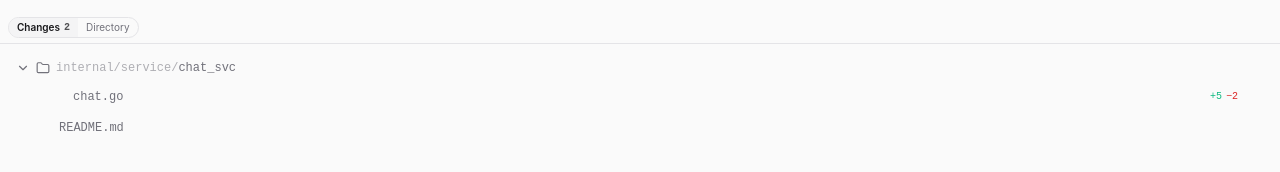
Scenario: FilesPanel directory search › (e) shows a no-hit empty state noting ignored files are excluded by default
Click the tab "Directory" at (108,28), box [78,18,138,37]
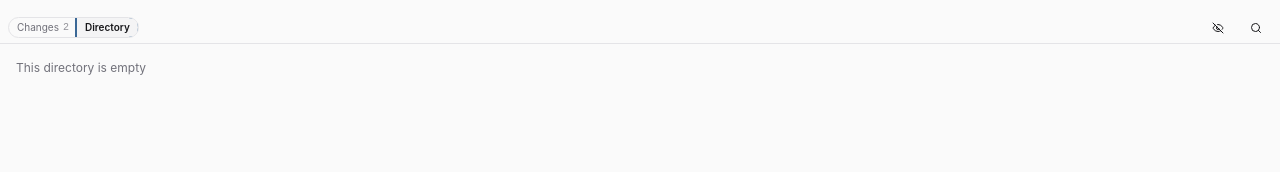
Click the button named "search" at (1256,28), box [1240,16,1272,40]
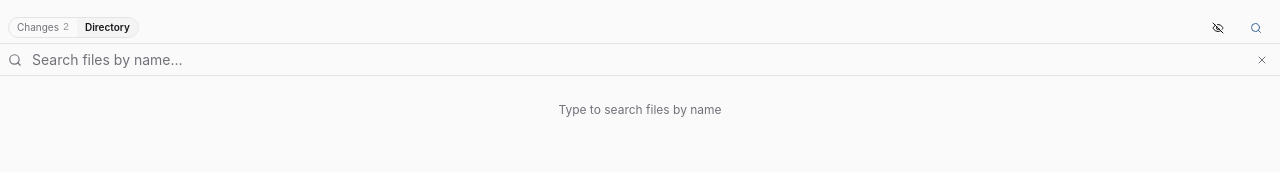
Type "zzz" into the field labelled "Search files by name…" at (637,60), box [28,48,1246,72]
Wait 300 ms
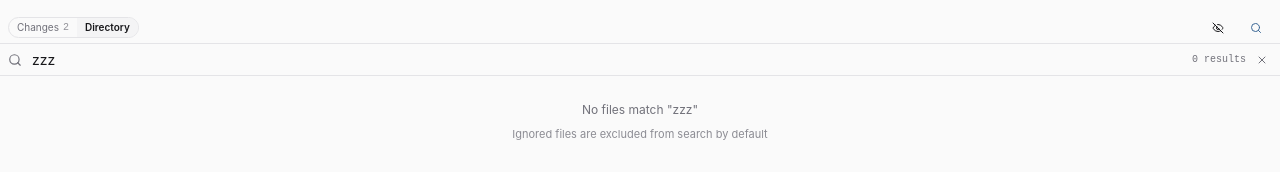
Expected: the text "No files match \"zzz\"" is shown, [582,102,698,117]
Expected: the text "Ignored files are excluded from search by default" is shown, [512,126,768,140]
